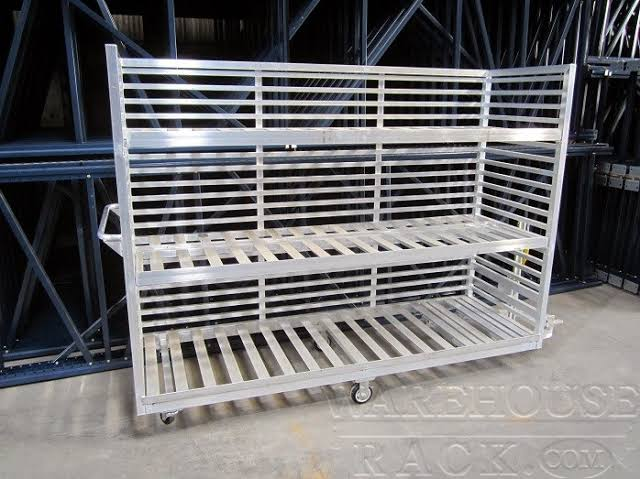Carts: (94, 41, 575, 425)
